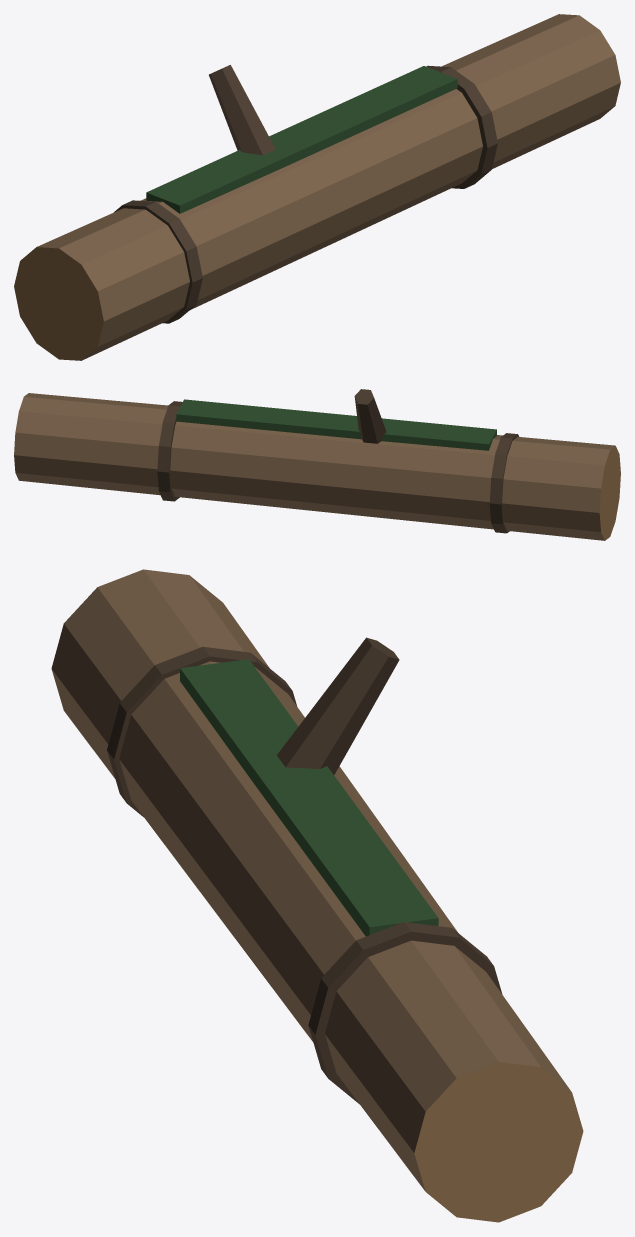
Rendered from log_fallen.glb.
3 renders of one model, top to bottom at view 1: azimuth 30°, elevation 25°; view 2: azimuth 150°, elevation 25°; view 3: azimuth 270°, elevation 25°, orthographic. The views are drawn at different scales.
Parts seen in each view (by area): view 1: log_fallen; view 2: log_fallen; view 3: log_fallen.
Boxes of the visible parts, x1,y1,x2,y2 form: log_fallen: (14, 14, 620, 360); log_fallen: (14, 389, 620, 540); log_fallen: (51, 569, 583, 1222).
Size of what is drawn, in the model's own units: 3 by 0.7959 by 1.33.
Materials: 1 (1 with a texture image).
